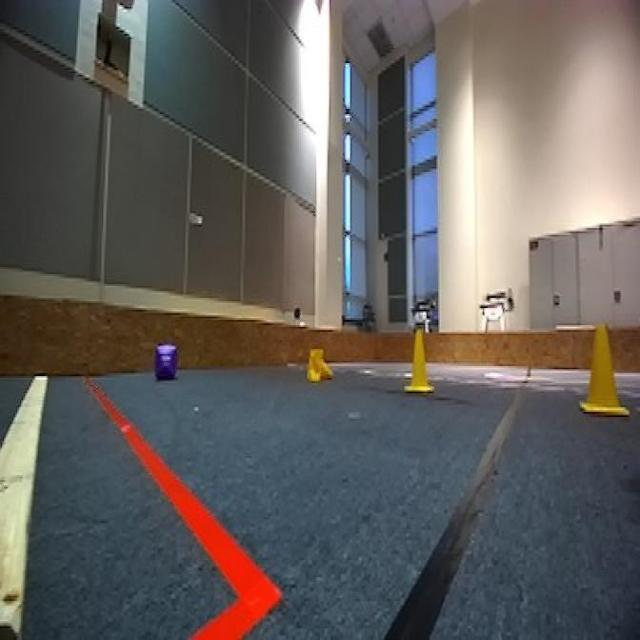frc_cone: (579, 325, 623, 415), (404, 325, 437, 395), (305, 347, 336, 383)
frc_cube: (153, 340, 179, 380)
